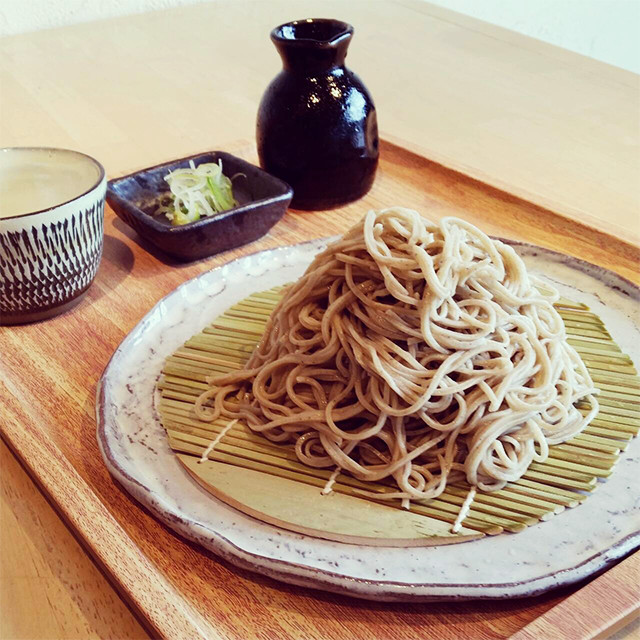Soba: (232, 203, 610, 521)
